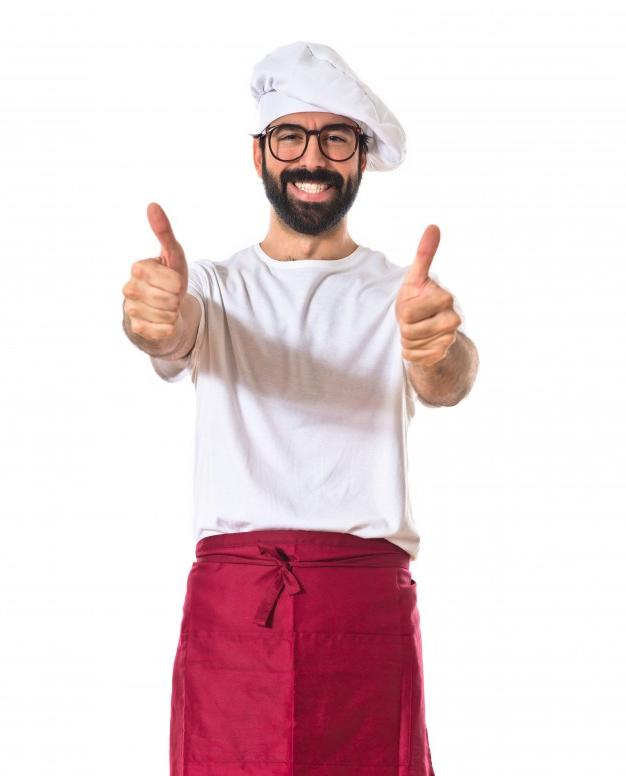thumbsup: (398, 224, 462, 367), (123, 203, 187, 340)
